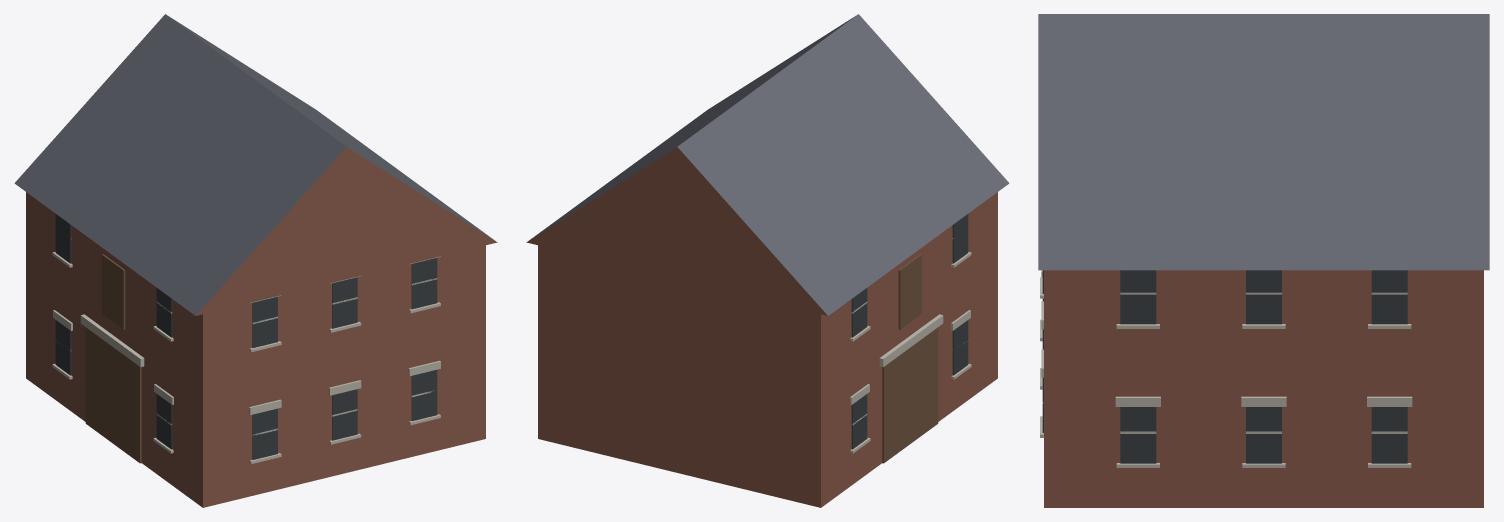
File: house_2004_calumet_coach_house__draft_1904.glb
The picture shows the model from 3 angles, left to right: view 1: azimuth 30°, elevation 25°; view 2: azimuth 150°, elevation 25°; view 3: azimuth 270°, elevation 25°; orthographic projection. The views are drawn at different scales.
Visible parts, largest first — view 1: house_2004_calumet_coach_house__draft_1904; view 2: house_2004_calumet_coach_house__draft_1904; view 3: house_2004_calumet_coach_house__draft_1904.
Boxes of the visible parts, x1,y1,x2,y2 form: house_2004_calumet_coach_house__draft_1904: [14, 14, 497, 507]; house_2004_calumet_coach_house__draft_1904: [526, 14, 1009, 507]; house_2004_calumet_coach_house__draft_1904: [1038, 14, 1489, 507].
Size of the model in its own units: 9.6 by 9.98 by 9.99.
